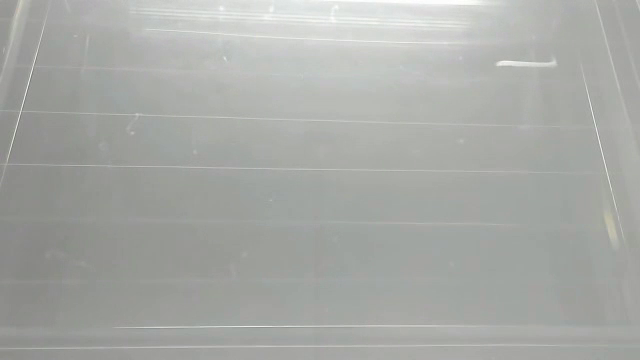alpha: (491, 53, 561, 72)
